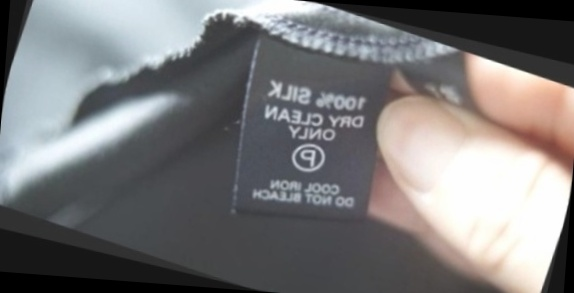dry_clean_any_solvent_except_trichloroethylene: (282, 133, 333, 181)
